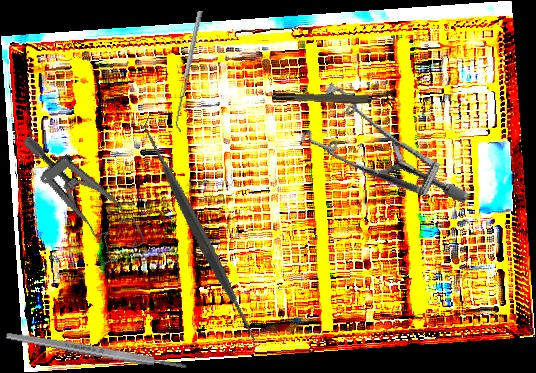Fixation Ring: (272, 85, 395, 109)
Scalpel Handle: (4, 329, 189, 373)
Spatula Surgical: (78, 113, 321, 352), (172, 10, 207, 133)
Speculum: (281, 49, 472, 257), (19, 109, 150, 277)
